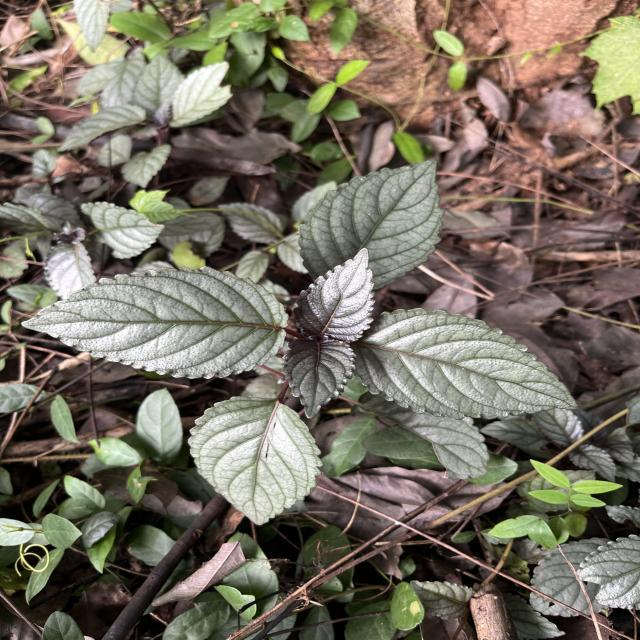Hemigraphis colorata: (16, 263, 295, 383), (352, 304, 584, 422), (294, 156, 446, 288), (185, 394, 326, 529), (292, 245, 376, 346), (278, 338, 359, 422)
